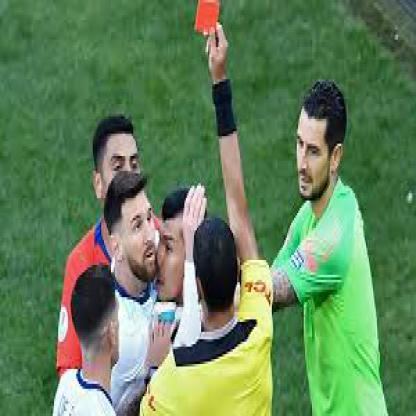foul: (173, 1, 237, 95)
